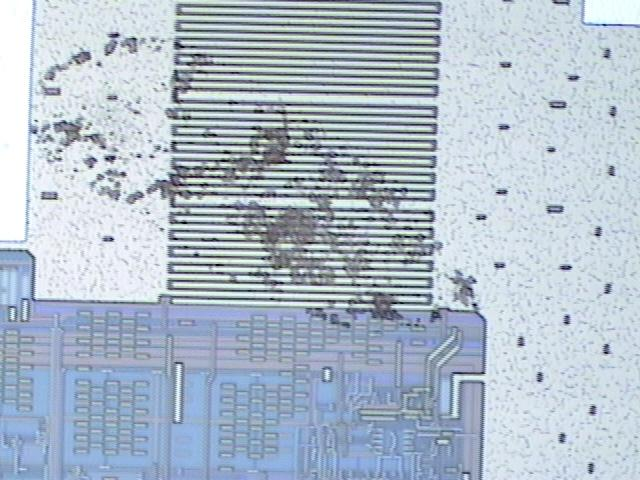SCRATCH: (26, 30, 484, 335)
